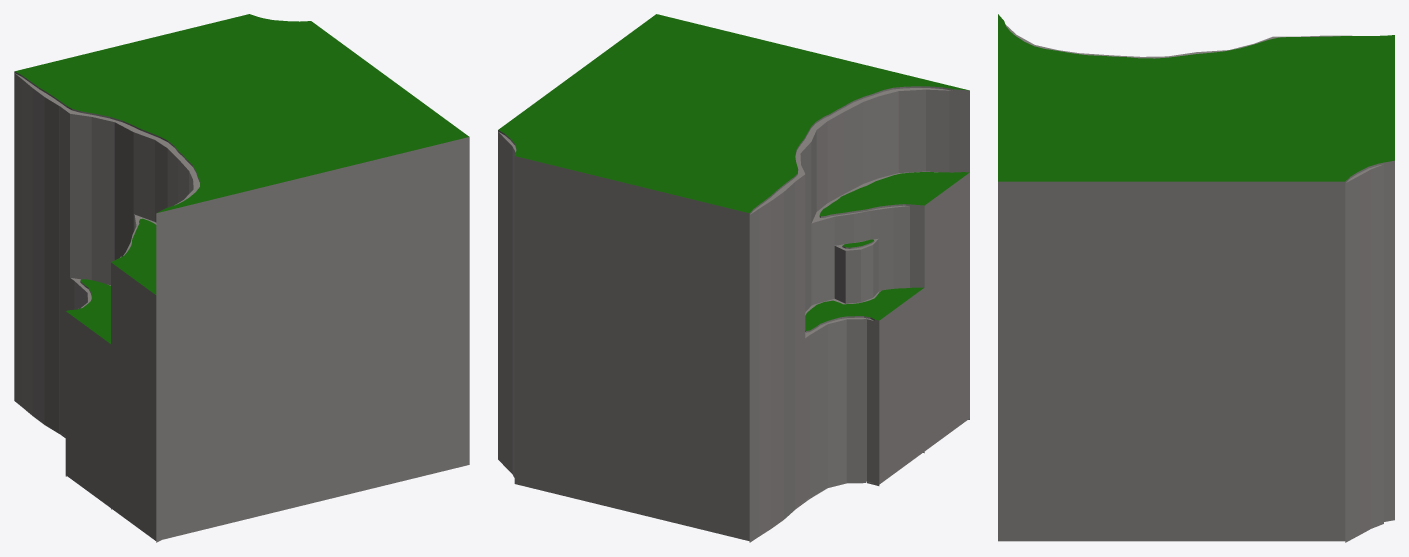
The model's file is MTSDoubleMountain.fbx.
3 views of the same model, side by side, from view 1: azimuth 30°, elevation 25°; view 2: azimuth 150°, elevation 25°; view 3: azimuth 270°, elevation 25° (orthographic). The views are drawn at different scales.
Visible parts, largest first — view 1: Plane.020; view 2: Plane.020; view 3: Plane.020.
Boxes of the visible parts, box(x1,y1,x2,y2) form: Plane.020: box(14, 14, 469, 542); Plane.020: box(498, 14, 969, 542); Plane.020: box(998, 14, 1394, 542).
Bounding box in the file's own units: 100 × 101 × 100.
